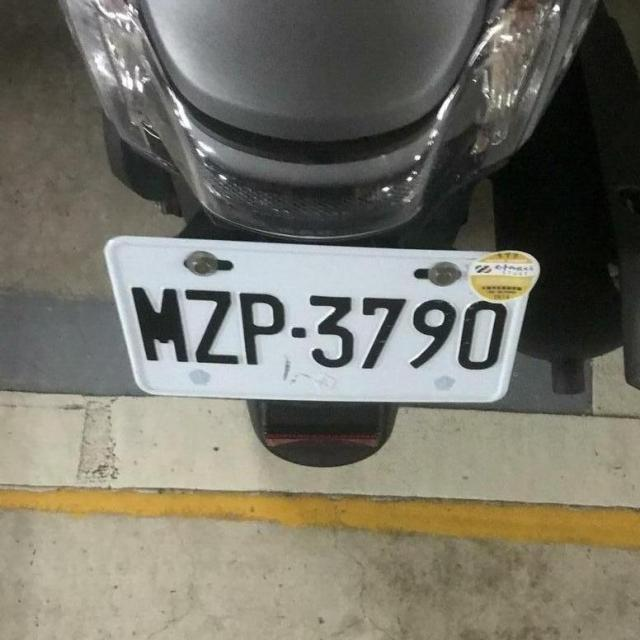W: (102, 228, 540, 416)
